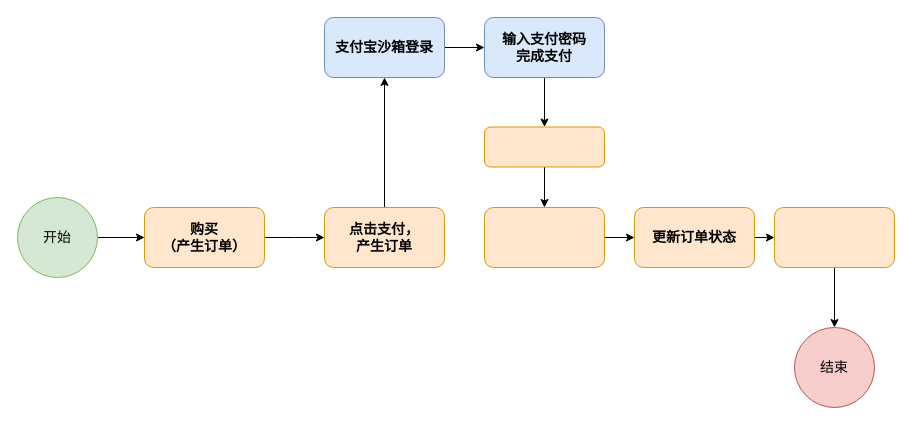
This 912x425 diagram has some shape labels left out. The shapes that lost their labels are listed below. From the top down, each one's centre as x and y in pixels, then its label:
[544,146]: NATAPP
[544,237]: 支付宝会 回调接口
[834,237]: 更新系统状态
